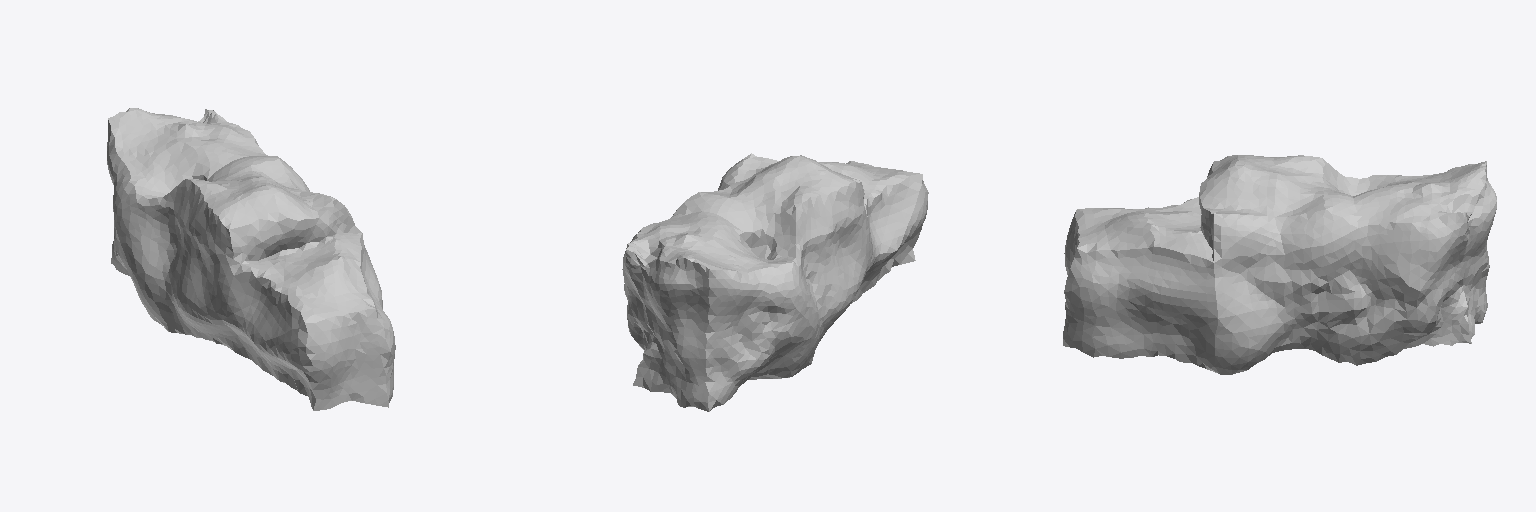
Rendered from cave_v1.obj.
The picture shows the model from 3 angles: view 1: azimuth 30°, elevation 25°; view 2: azimuth 150°, elevation 25°; view 3: azimuth 270°, elevation 25°; orthographic projection.
Parts seen in each view (by area): view 1: Cube; view 2: Cube; view 3: Cube.
Boxes of the visible parts, x1,y1,x2,y2 form: Cube: [107, 108, 395, 410]; Cube: [622, 153, 928, 411]; Cube: [1063, 155, 1496, 374].
Size of the model in its own units: 31.35 by 29.87 by 68.56.